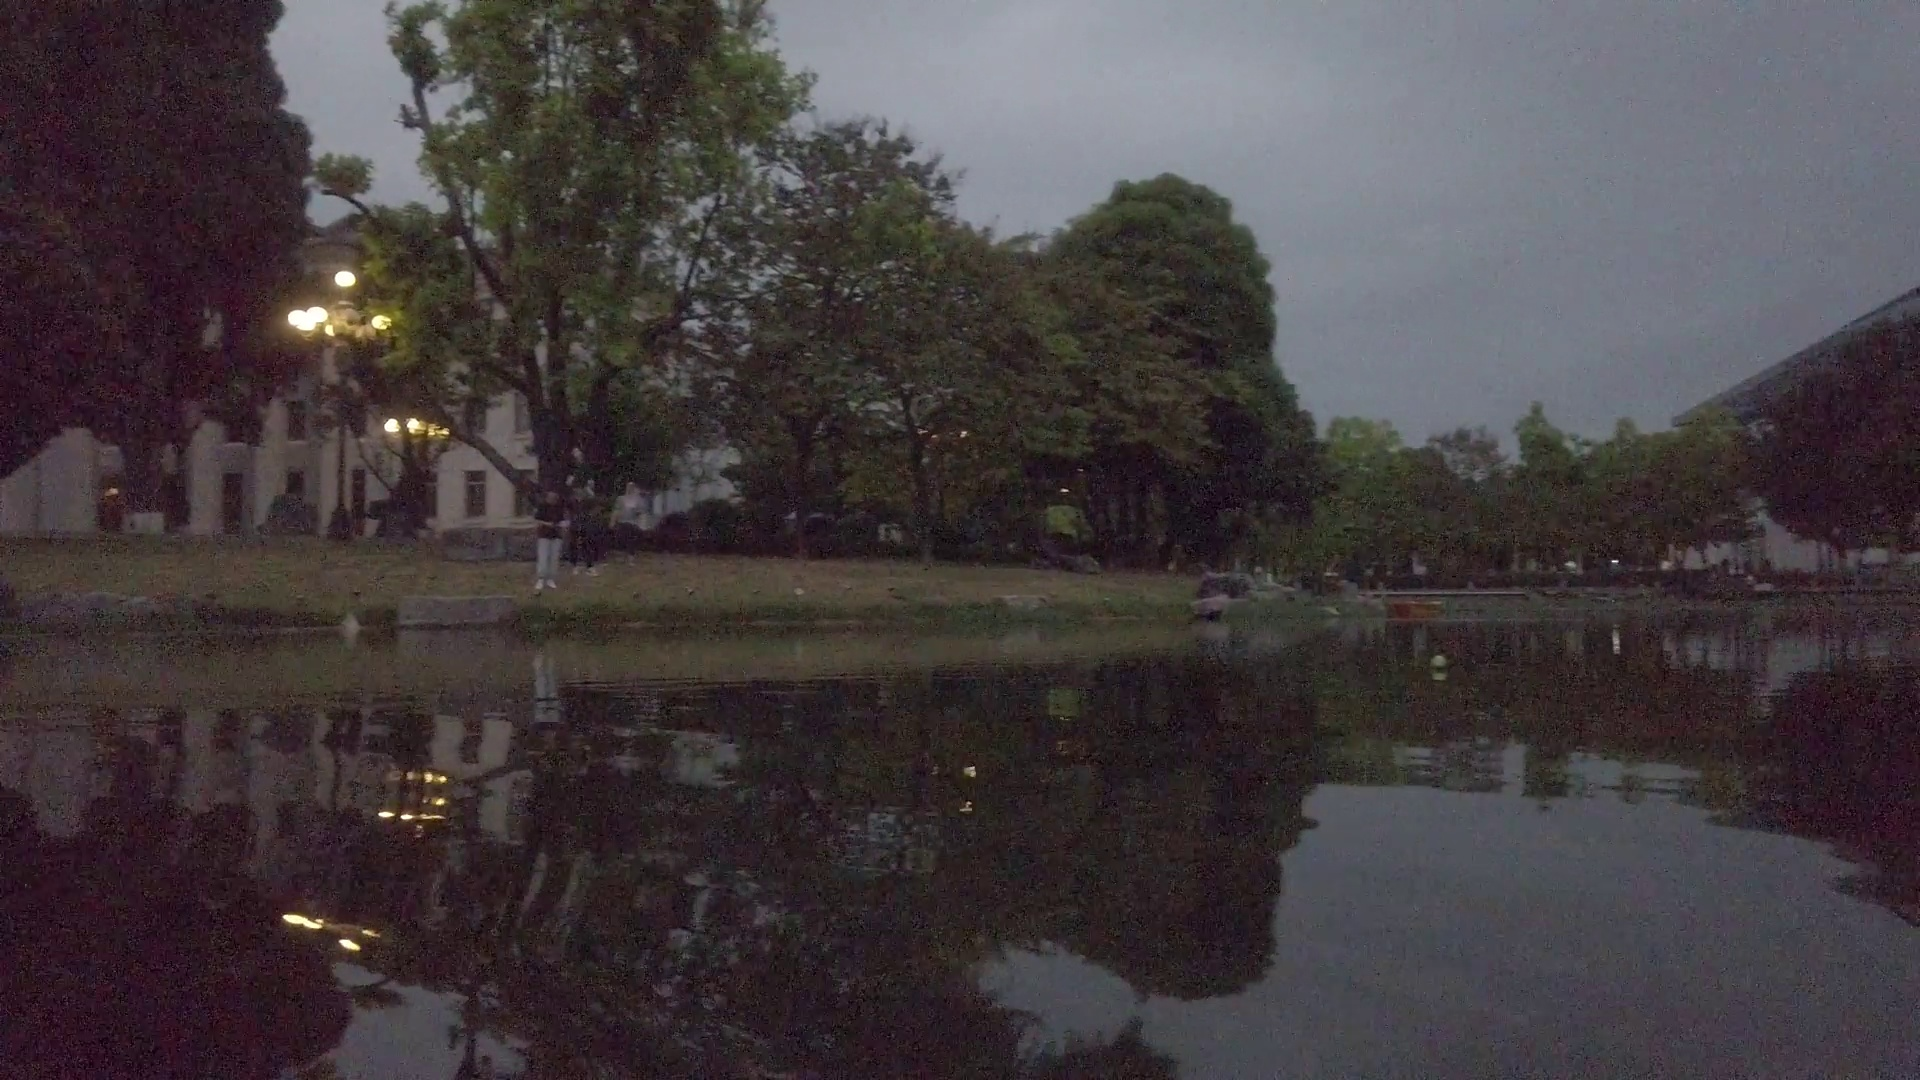bottle: (1432, 655, 1448, 673)
